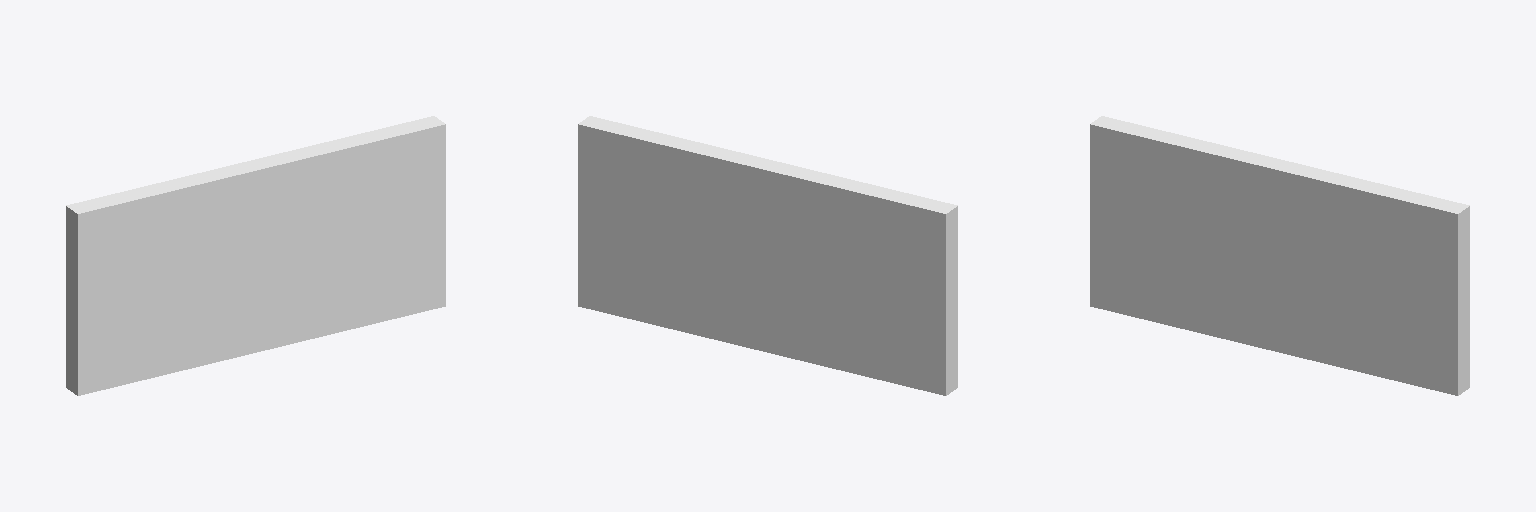
The model's file is PictureWithSquares.obj.
The picture shows the model from 3 angles: view 1: azimuth 30°, elevation 25°; view 2: azimuth 150°, elevation 25°; view 3: azimuth 330°, elevation 25°; orthographic projection.
Bounding box in the file's own units: 36 × 17 × 2.